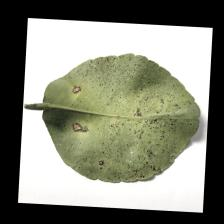canker: (60, 76, 92, 150)
